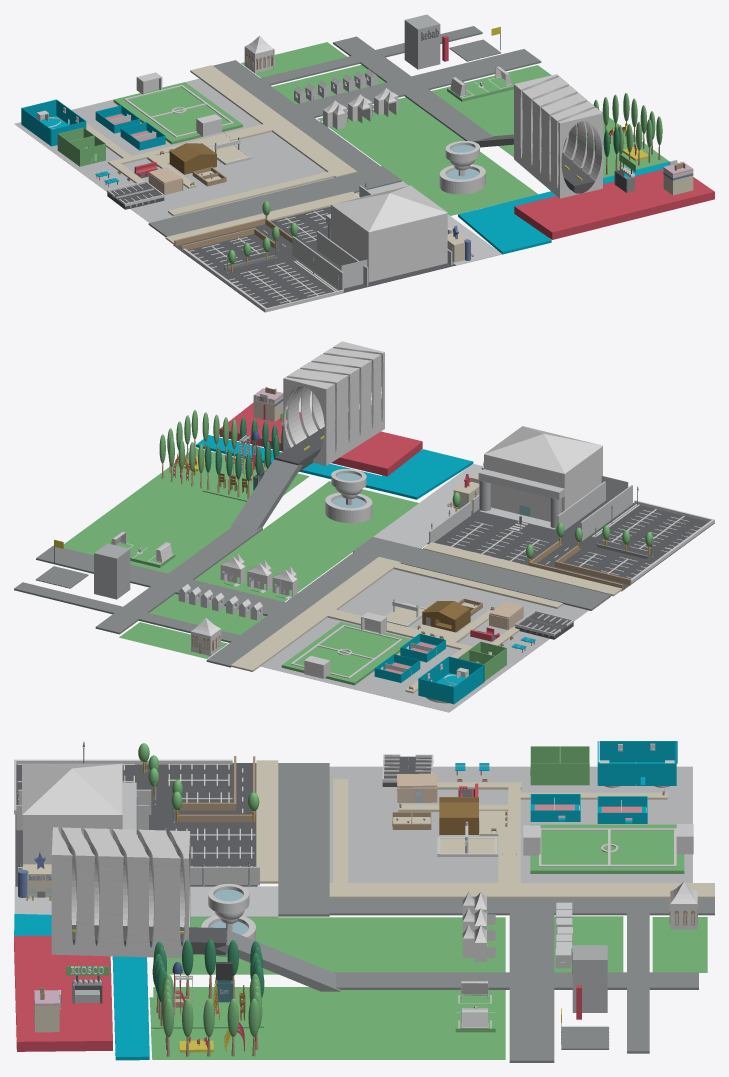
The model's file is Ciu.glb.
3 views of the same model, one above another, from view 1: azimuth 30°, elevation 25°; view 2: azimuth 150°, elevation 25°; view 3: azimuth 270°, elevation 25° (orthographic). The views are drawn at different scales.
Parts seen in each view (by area): view 1: Mesh_Mesh_head_geo.001_lambert2SG.001; view 2: Mesh_Mesh_head_geo.001_lambert2SG.001; view 3: Mesh_Mesh_head_geo.001_lambert2SG.001.
Boxes of the visible parts, bbox=[...] form: Mesh_Mesh_head_geo.001_lambert2SG.001: bbox=[14, 14, 714, 312]; Mesh_Mesh_head_geo.001_lambert2SG.001: bbox=[14, 341, 714, 712]; Mesh_Mesh_head_geo.001_lambert2SG.001: bbox=[14, 741, 714, 1062].
Bounding box in the file's own units: 0.1934 × 0.042 × 0.191.
